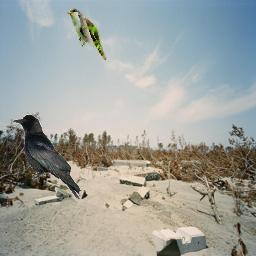Crow: (12, 114, 81, 199)
Cuckoo: (65, 8, 109, 60)
